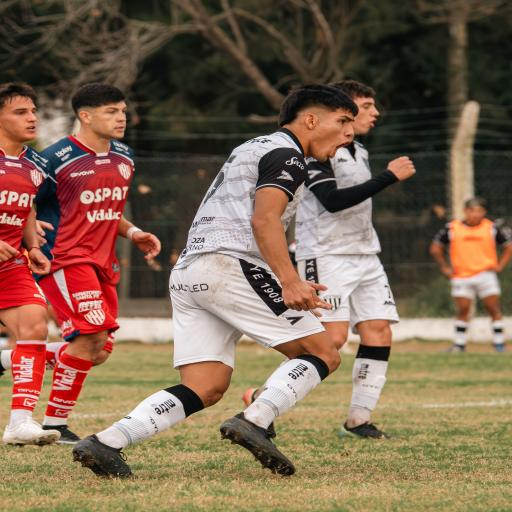shoe: (221, 413, 295, 475), (73, 435, 132, 477), (3, 417, 60, 445), (338, 422, 403, 438), (43, 425, 80, 444), (0, 350, 12, 376), (242, 388, 258, 407), (242, 388, 258, 406), (444, 345, 465, 353), (495, 344, 505, 352)
